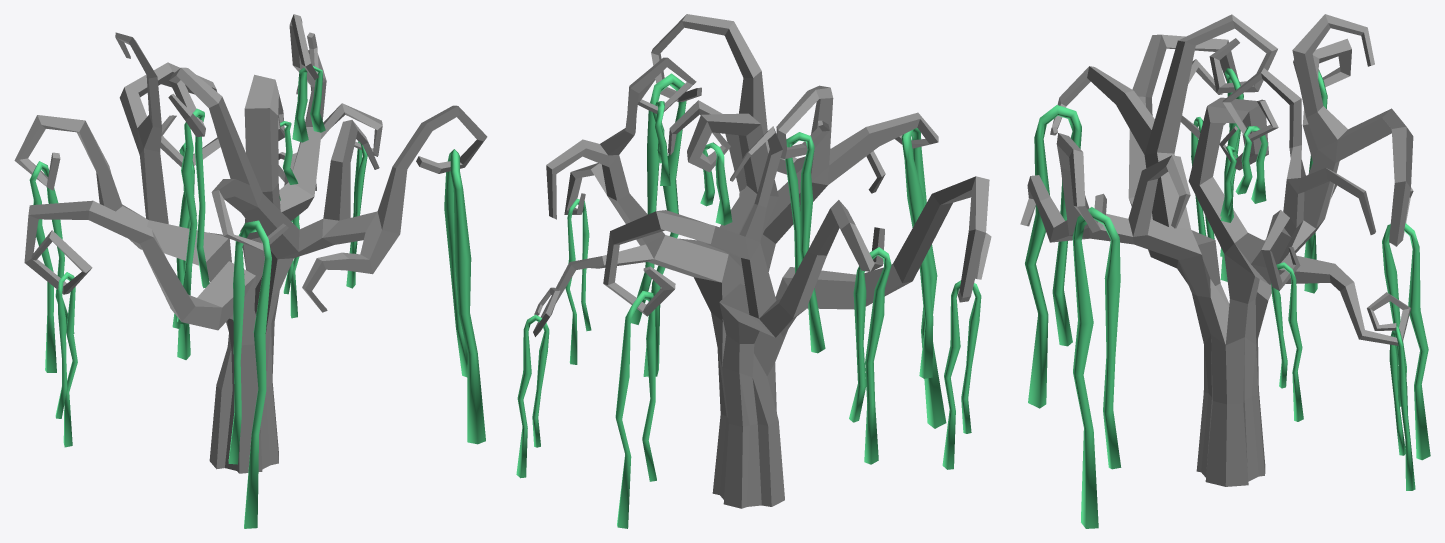
Rendered from 中间大树.FBX.
3 renders of one model, left to right at view 1: azimuth 30°, elevation 25°; view 2: azimuth 150°, elevation 25°; view 3: azimuth 270°, elevation 25°, orthographic. The views are drawn at different scales.
Parts seen in each view (by area): view 1: Tree_Type0_02_mesh012, Line019; view 2: Tree_Type0_02_mesh012, Line019; view 3: Tree_Type0_02_mesh012, Line019.
Boxes of the visible parts, x1,y1,x2,y2 form: Tree_Type0_02_mesh012: (14,14,487,473); Line019: (29,65,485,528); Tree_Type0_02_mesh012: (533,14,991,508); Line019: (516,73,981,528); Tree_Type0_02_mesh012: (1020,14,1413,486); Line019: (1025,68,1430,528).
Bounding box in the file's own units: 15977 × 16169 × 13792.
